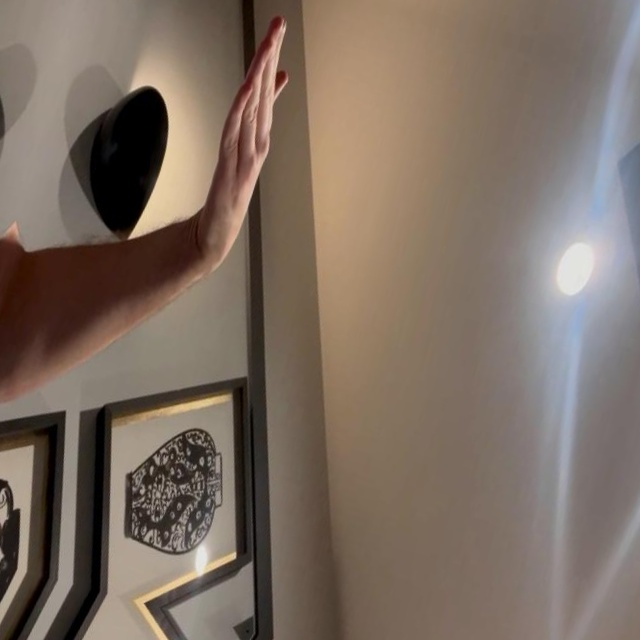Paper: (187, 9, 306, 276)
